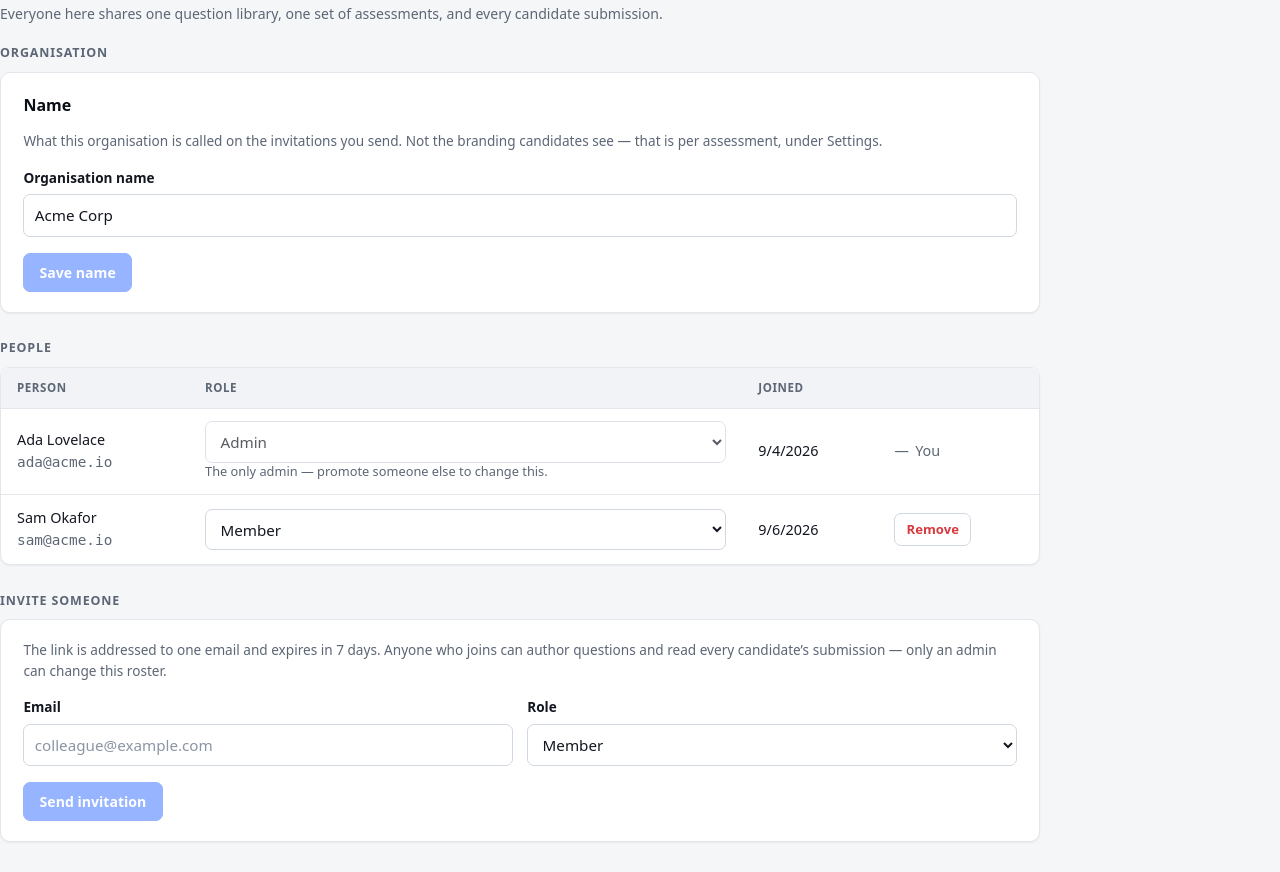
Scenario: TeamPage › replaces the pending row when the same address is re-invited
Type "priya@acme.io" into the field labelled "Email".
click(268, 745); type("priya@acme.io")  # box [23,724,513,766]
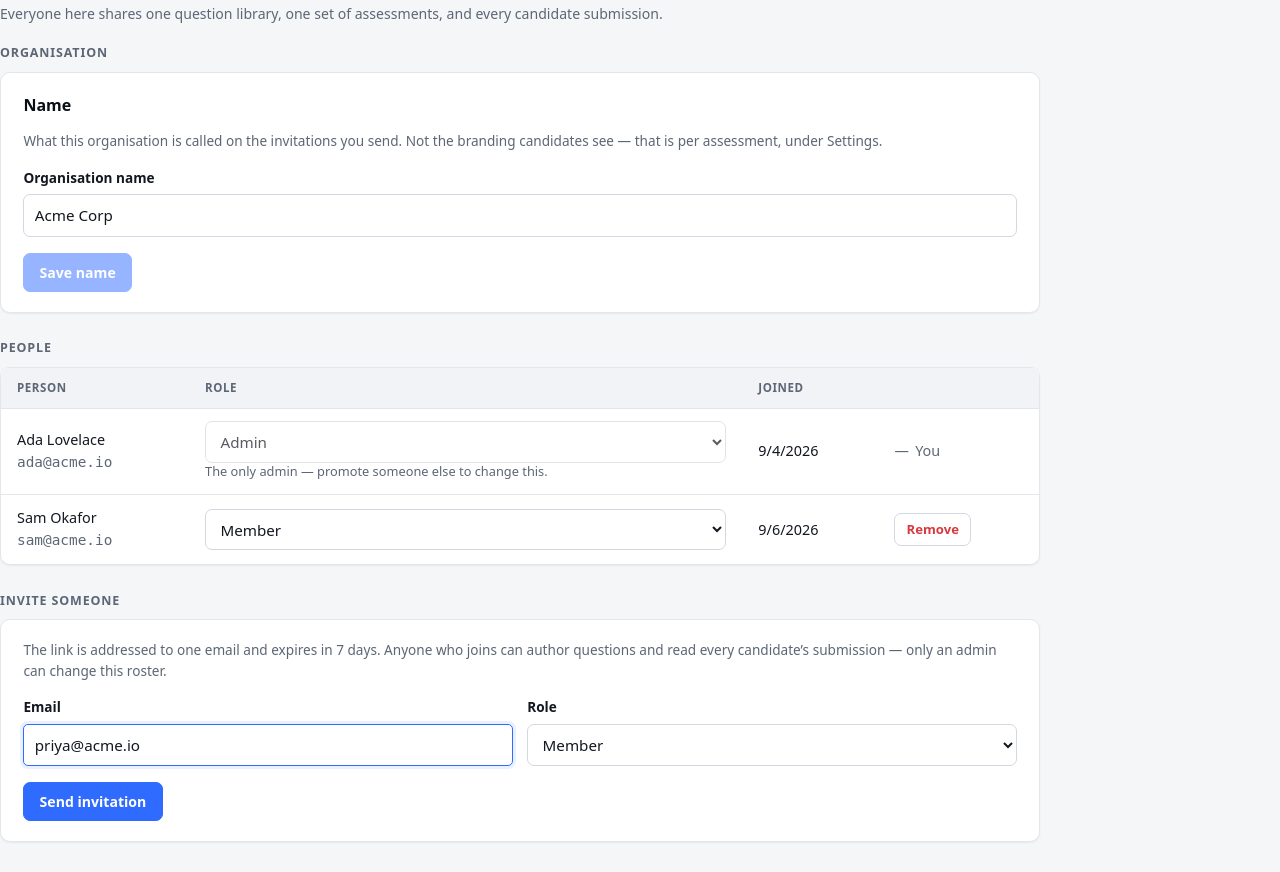
Click the button "Send invitation".
click(93, 802)  # box [23,782,162,821]
(page scrolled)
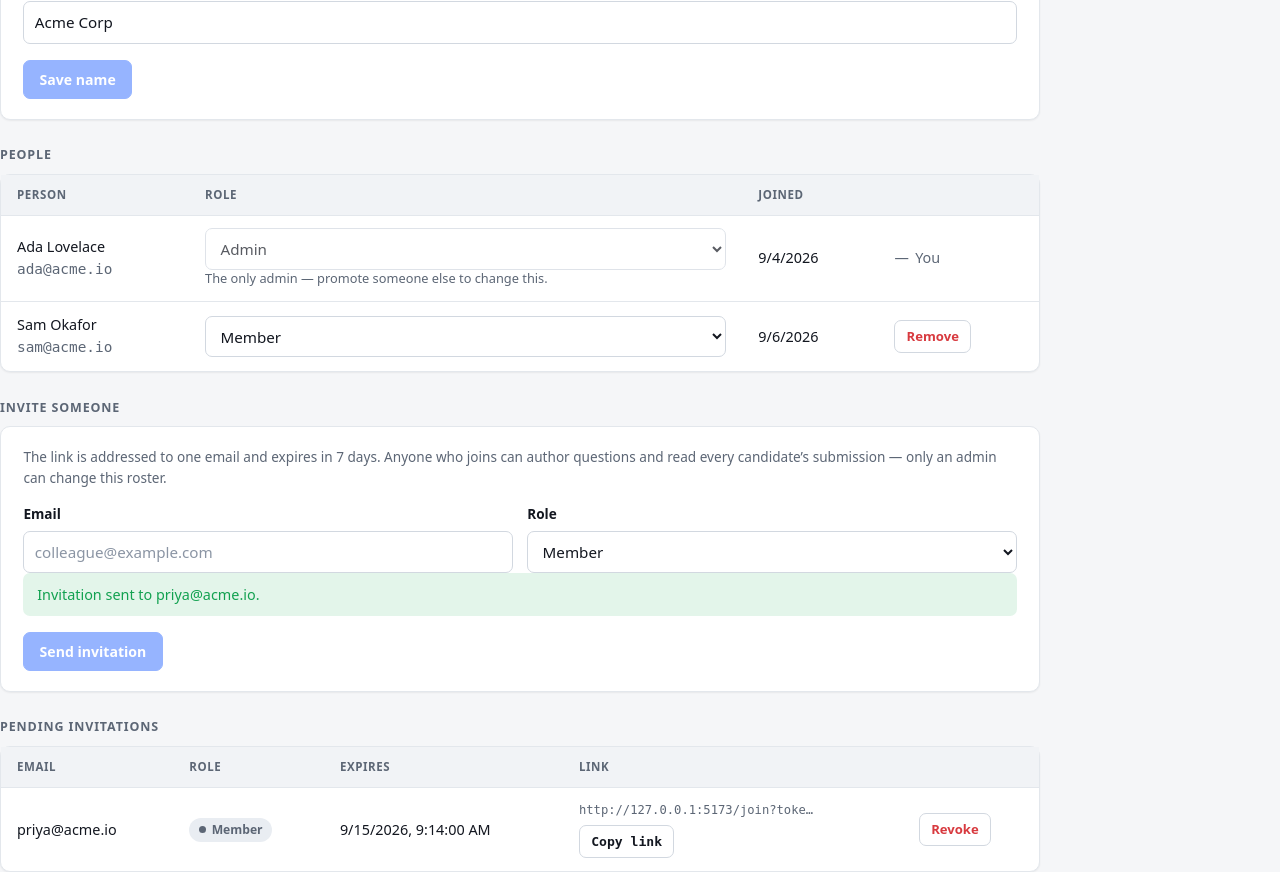
Check: the text "priya@acme.io" is shown once, box [1,788,173,871]
Check: the text "http://127.0.0.1:5173/join?token=xyz" is shown, box [579,801,819,819]
